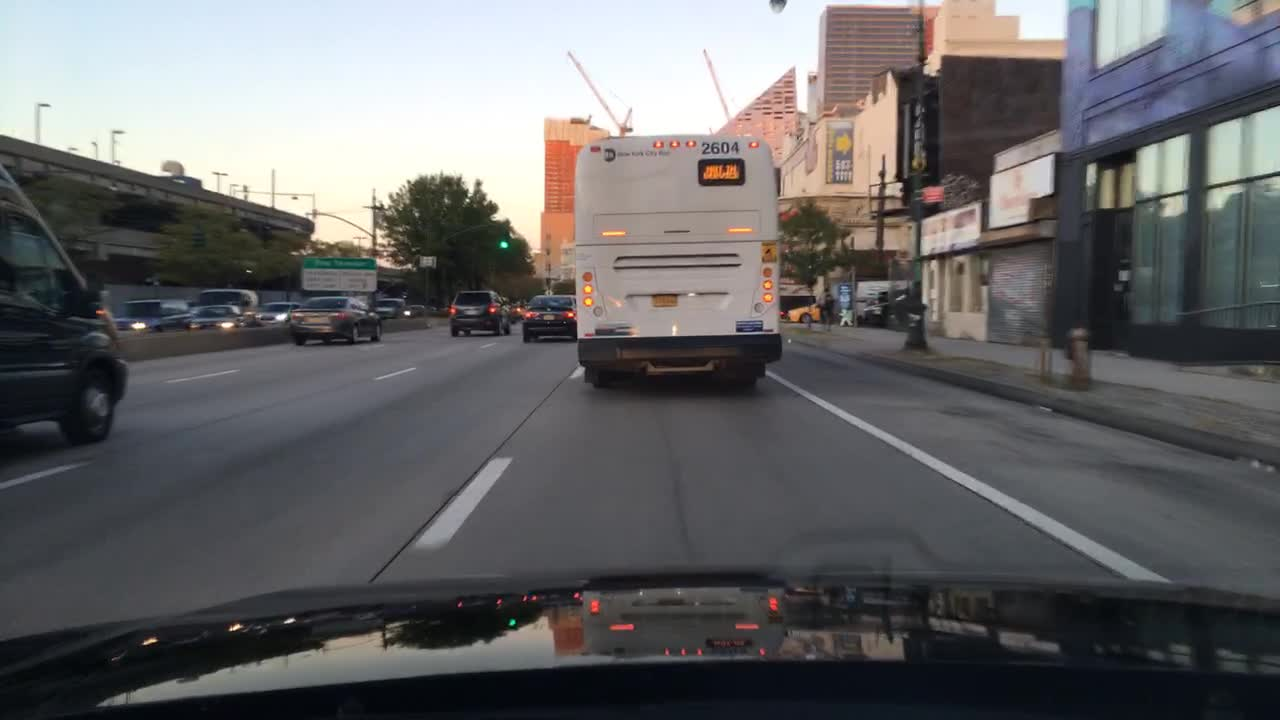bus: (566, 128, 788, 399)
car: (0, 163, 131, 458), (287, 291, 388, 352), (833, 280, 916, 330), (102, 297, 197, 337), (443, 287, 513, 341), (514, 295, 580, 348), (850, 284, 920, 330), (179, 302, 261, 333), (188, 282, 263, 309), (256, 297, 302, 330), (373, 291, 410, 326), (777, 295, 821, 322), (505, 297, 538, 326), (402, 298, 430, 320), (426, 297, 450, 320)
traffic light: (896, 179, 910, 205), (498, 238, 509, 258)
traffic sign: (298, 254, 379, 295), (557, 236, 579, 286), (415, 254, 439, 275), (918, 188, 944, 207)
